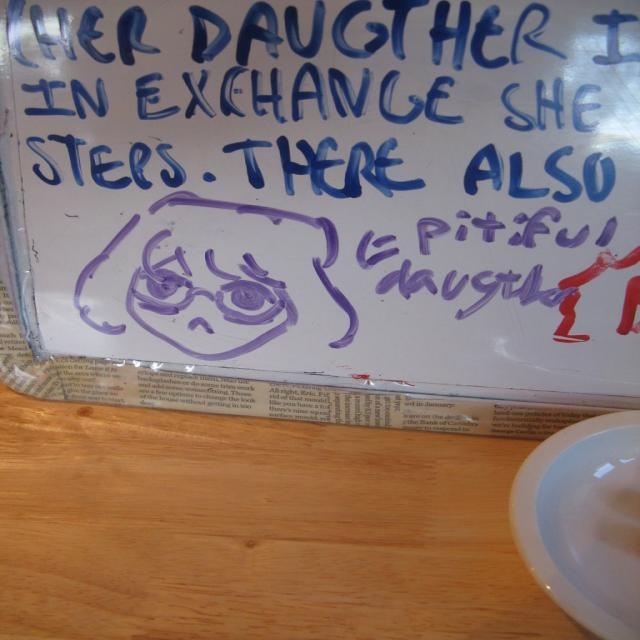ceramic plate: (513, 400, 640, 640)
